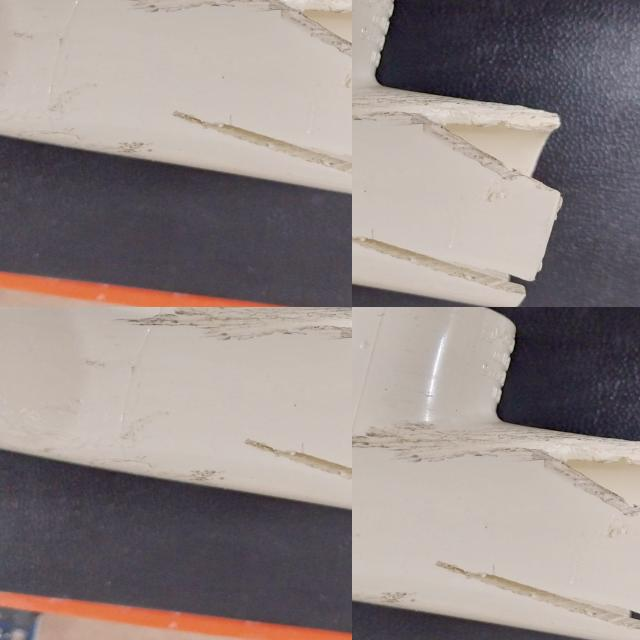Defective: (352, 424, 640, 506), (432, 562, 640, 638), (523, 451, 640, 531)
T Joint: (352, 307, 640, 640)
